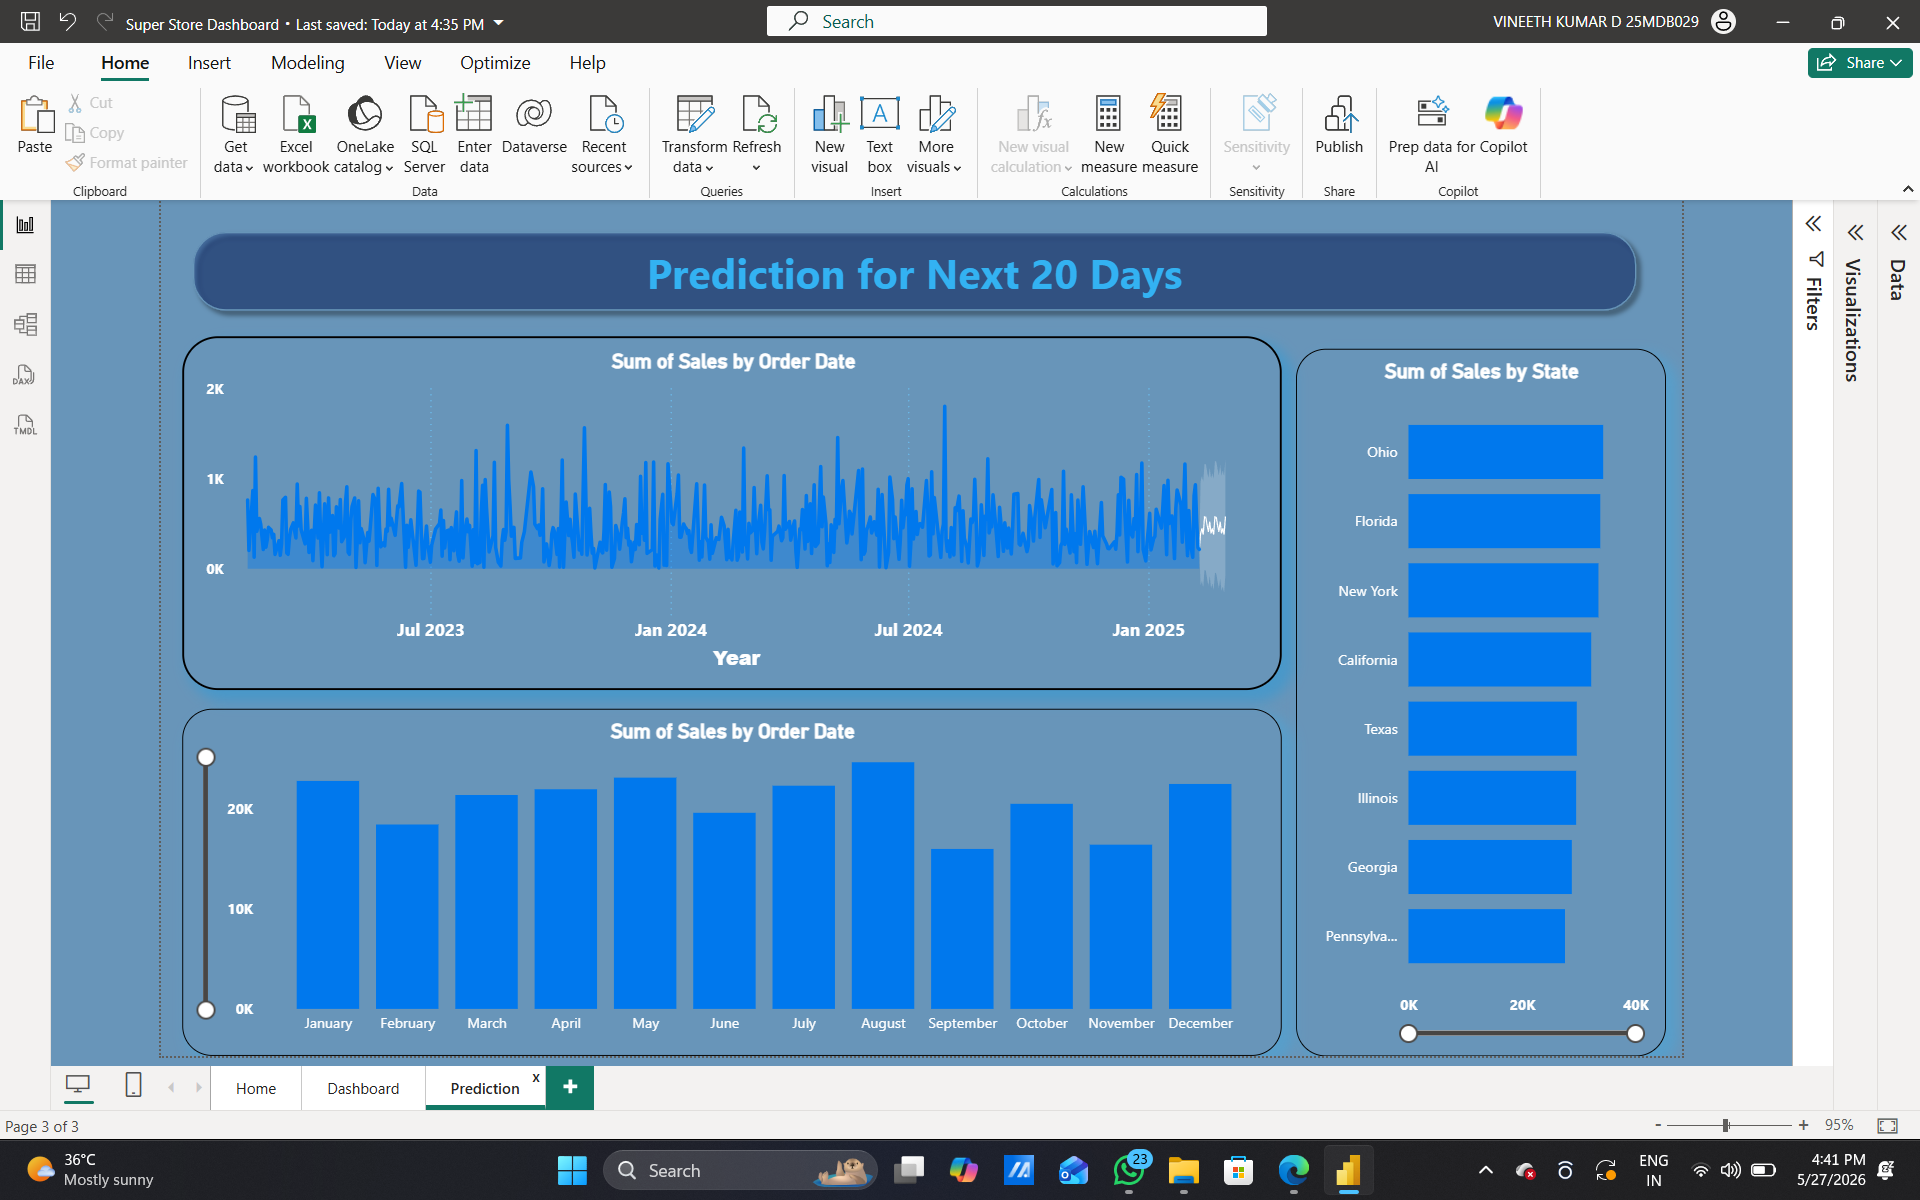

What the dashboard file says about the page in this screenshot:
{"tool":"powerbi","page":{"name":"Prediction","canvas":[1280,720],"ordinal":2},"visuals":[{"type":"shape","box":[17.5,18.3,1232,84.1],"z":0},{"type":"lineChart","title":"Sum of Sales by Order Date","fields":{"Y":["Sum(Task_superstore_sales.Sales)"],"Category":["Task_superstore_sales.OrderDate.Variation.Date Hierarchy.Year","Task_superstore_sales.OrderDate.Variation.Date Hierarchy.Quarter","Task_superstore_sales.OrderDate.Variation.Date Hierarchy.Month","Task_superstore_sales.OrderDate.Variation.Date Hierarchy.Day"]},"box":[17.4,115.1,924.4,297.7],"z":1000},{"type":"barChart","fields":{"Category":["Task_superstore_sales.State"],"Y":["Sum(Task_superstore_sales.Sales)"]},"box":[954.6,124.9,311,595.6],"z":2000},{"type":"columnChart","title":"Sum of Sales by Order Date","fields":{"Category":["Task_superstore_sales.OrderDate.Variation.Date Hierarchy.Month"],"Y":["Sum(Task_superstore_sales.Sales)"]},"box":[17.4,427.9,924.4,291.9],"z":3000}]}

Visuals, with their boxes on the page's 1280x720 design canvas (x1, y1, x2, y2). These are canvas units, not pixel positions in the 1920x1200 screenshot, which may show the page scaled, cropped or inside an application window:
shape: {"x1": 18, "y1": 18, "x2": 1250, "y2": 102}
"Sum of Sales by Order Date" lineChart: {"x1": 17, "y1": 115, "x2": 942, "y2": 413}
barChart - Task_superstore_sales.State x Sum(Task_superstore_sales.Sales): {"x1": 955, "y1": 125, "x2": 1266, "y2": 720}
"Sum of Sales by Order Date" columnChart: {"x1": 17, "y1": 428, "x2": 942, "y2": 720}
